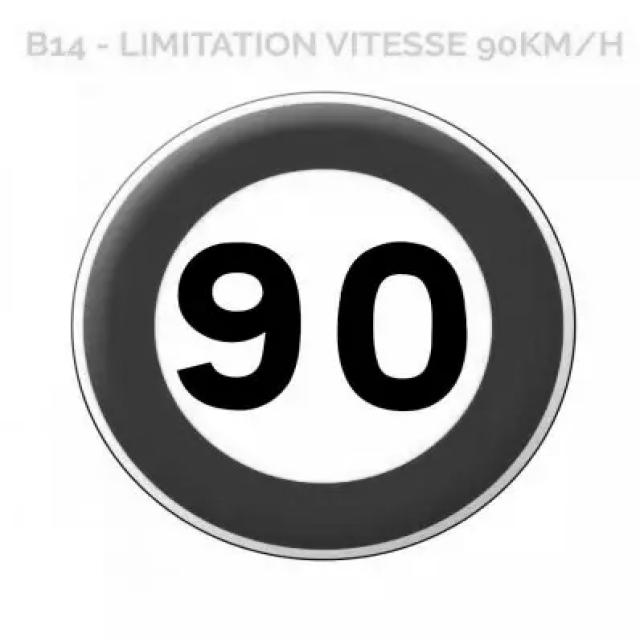speed_90: (70, 96, 578, 565)
